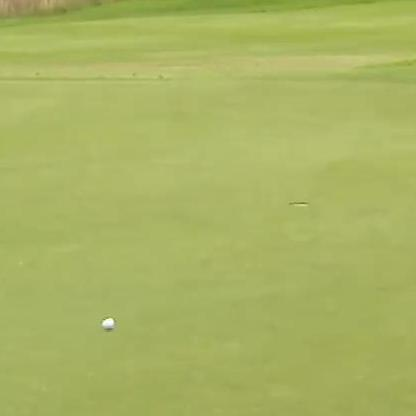golfball: (98, 315, 114, 331)
